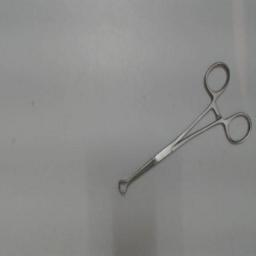Babcock Tissue Forceps: (116, 60, 254, 196)
